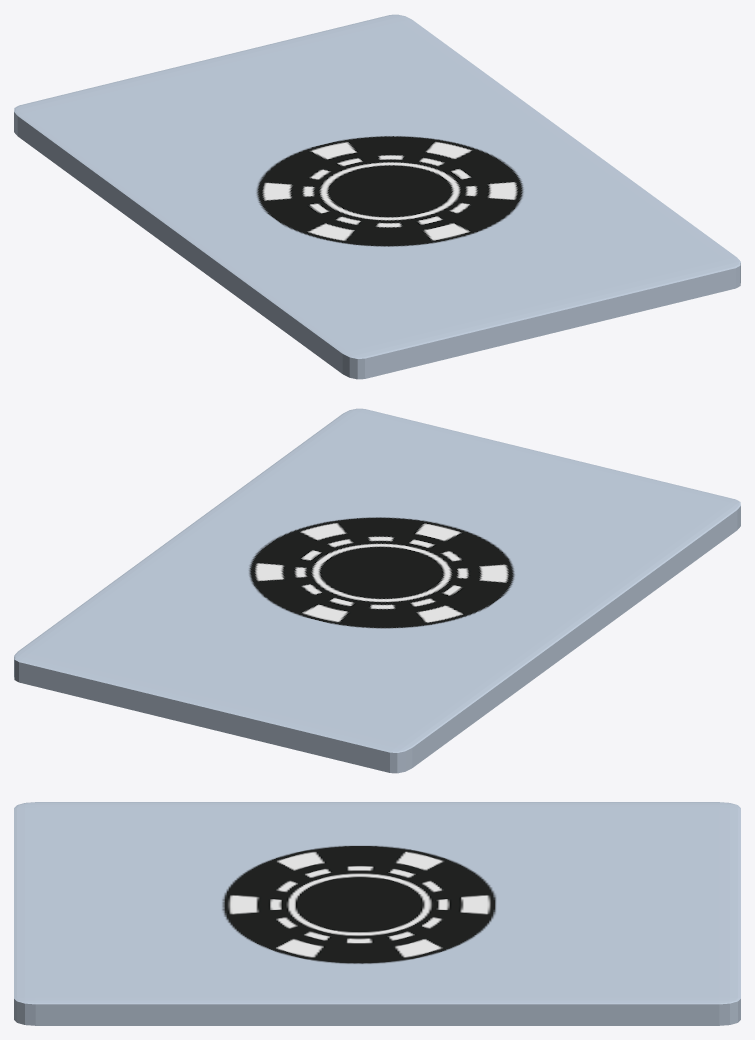
Rendered from card.fbx.
The picture shows the model from 3 angles, top to bottom: view 1: azimuth 30°, elevation 25°; view 2: azimuth 150°, elevation 25°; view 3: azimuth 270°, elevation 25°; orthographic projection. The views are drawn at different scales.
Visible parts, largest first — view 1: Cube.003; view 2: Cube.003; view 3: Cube.003.
Boxes of the visible parts, box(x1,y1,x2,y2) form: Cube.003: box(14, 14, 740, 379); Cube.003: box(14, 408, 740, 773); Cube.003: box(14, 802, 740, 1025).
Bounding box in the file's own units: 24.08 × 1.27 × 36.57.
Materials: 1 (1 with a texture image).
